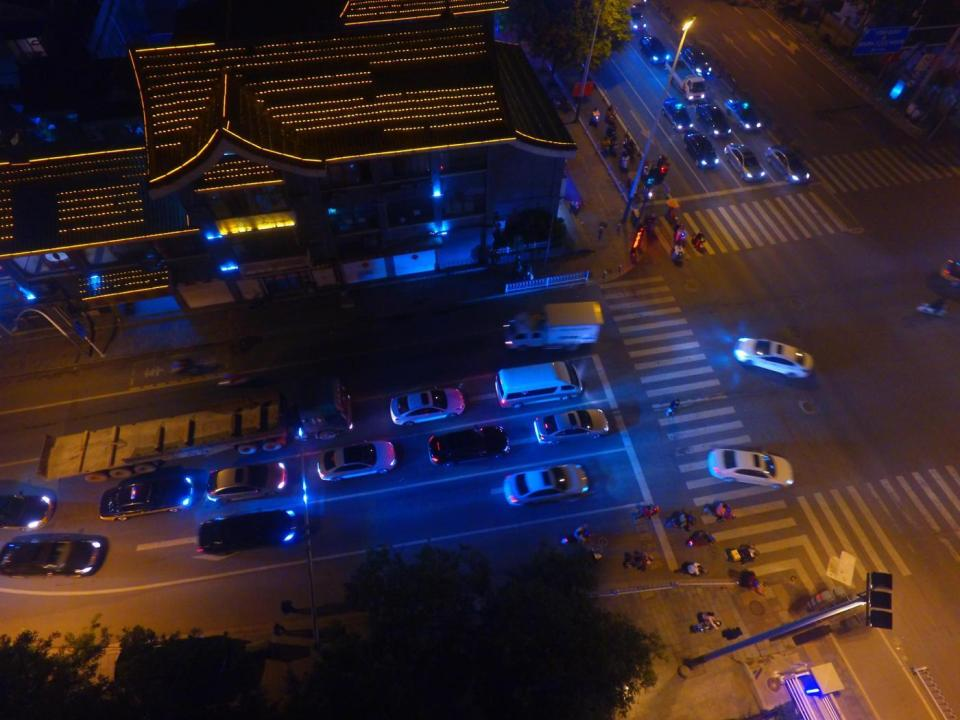car: (197, 508, 297, 556), (2, 534, 102, 580), (98, 476, 193, 521), (706, 446, 796, 492), (732, 334, 813, 382), (313, 439, 397, 485), (502, 464, 590, 506), (427, 427, 510, 469), (386, 387, 465, 428), (206, 461, 286, 501), (532, 410, 611, 448), (763, 142, 811, 186), (722, 141, 766, 183), (682, 130, 721, 172), (696, 102, 732, 139), (726, 96, 762, 131), (680, 44, 712, 79), (661, 98, 692, 132), (638, 34, 670, 66), (622, 4, 647, 32)
truck: (36, 381, 356, 490), (501, 297, 603, 352), (663, 56, 707, 104)
van: (493, 361, 584, 411)
